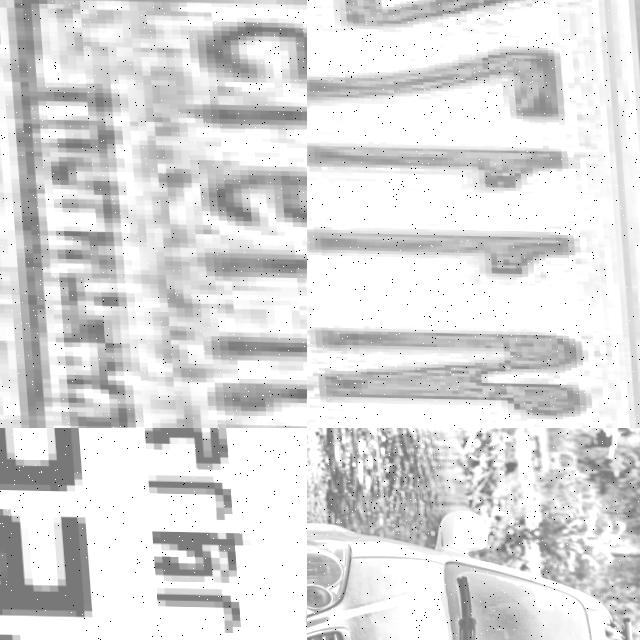license-plate: (307, 0, 640, 428), (0, 0, 307, 428), (0, 428, 307, 640)
